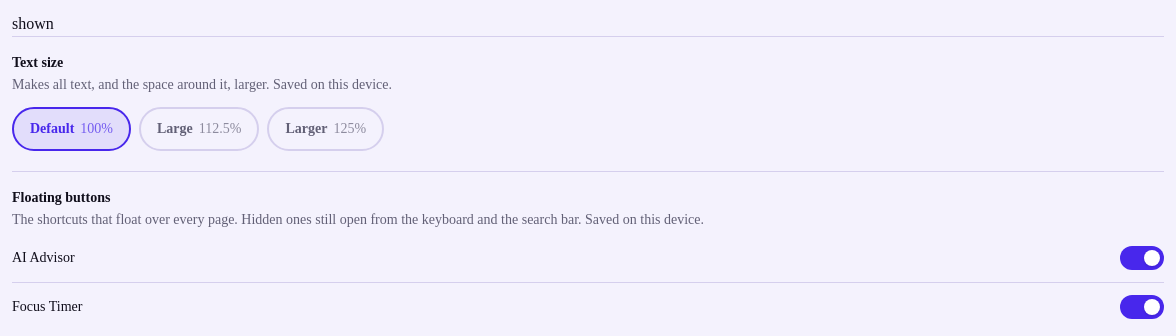
usePillHidden › updates every consumer when one changes it
This screenshot has width=1176, height=336.
Expected: the button "shown" is shown, [12,12,54,36]
Click the switch named "Show the AI Advisor button" at point(1142, 258), box [1120,246,1164,270]
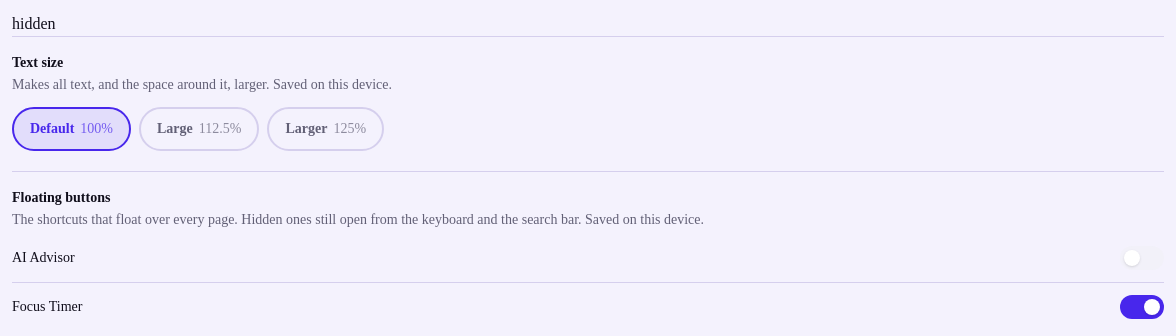
Result: the button "hidden" is shown at [12,12,56,36]
